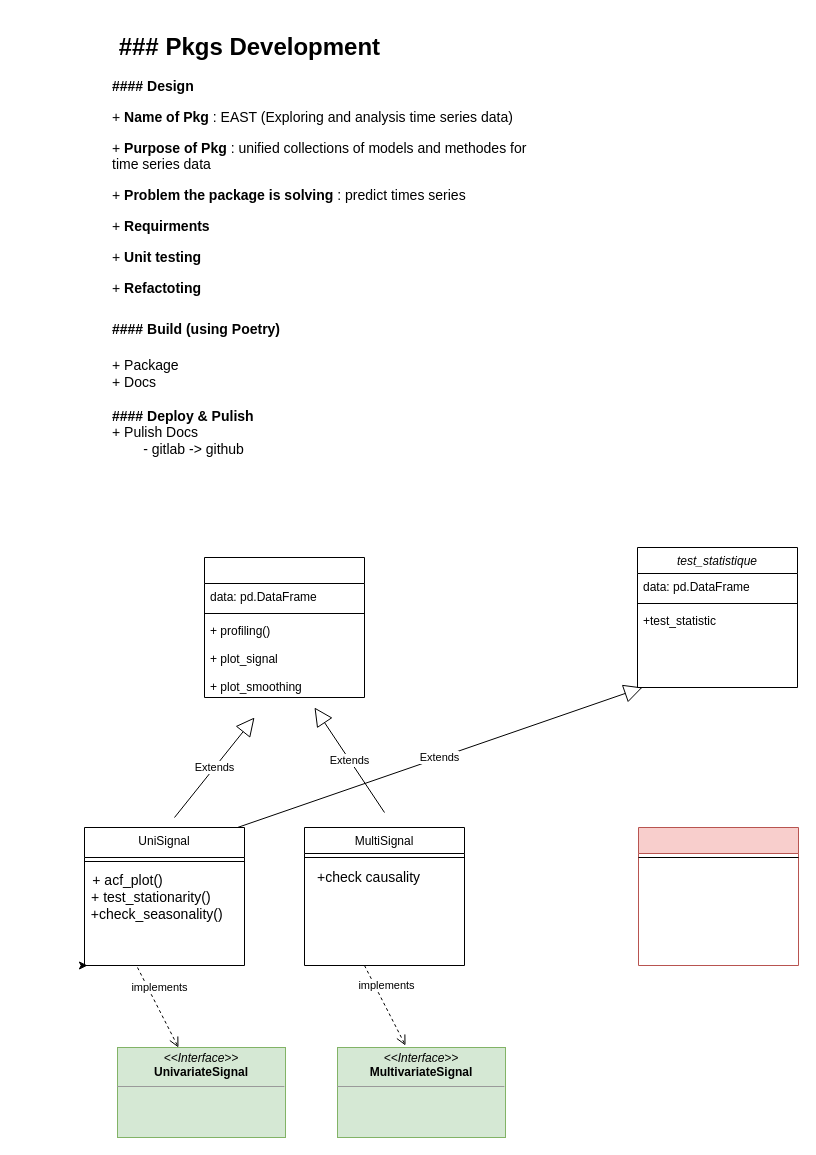
Some shapes in this 816 by 1155 pixel diagram are drawn without their labels. The shapes that lost their labels are listed below. From the top down, each one's box as (x1, y1, x2, y2) in pixels, then its label:
(204, 556, 364, 698): Signal_abs(calss abstrait)
(638, 826, 798, 966): model
